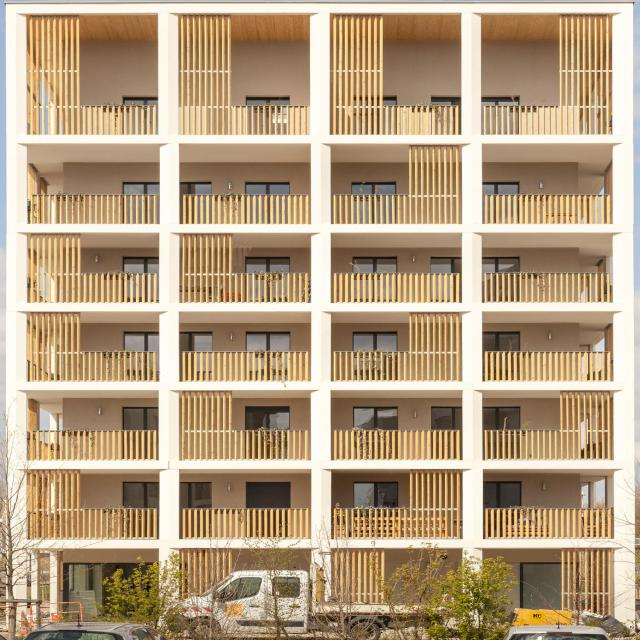door: (60, 563, 151, 620), (522, 561, 561, 608)
railing: (173, 14, 307, 135), (327, 11, 455, 135), (24, 13, 154, 133), (482, 14, 608, 133), (330, 143, 458, 223), (24, 468, 158, 539), (330, 466, 460, 538), (177, 388, 308, 459), (24, 233, 157, 302), (482, 389, 607, 462), (178, 232, 307, 302), (26, 312, 155, 380), (331, 312, 459, 380), (176, 505, 307, 539), (25, 430, 158, 462), (329, 427, 460, 459), (178, 350, 308, 382), (482, 506, 612, 538), (329, 271, 457, 303), (481, 272, 608, 304), (29, 192, 158, 222), (482, 194, 612, 223), (182, 194, 307, 224), (559, 547, 609, 614), (328, 548, 385, 601), (179, 547, 222, 597)
window: (350, 480, 395, 508), (352, 405, 396, 430), (246, 479, 290, 504), (119, 480, 157, 508), (245, 407, 288, 429), (481, 480, 518, 505), (173, 329, 211, 351), (349, 331, 395, 349), (350, 255, 396, 273), (122, 406, 157, 429), (244, 331, 288, 349), (178, 483, 213, 505), (484, 404, 516, 428), (242, 255, 288, 271), (125, 331, 159, 352), (429, 407, 459, 429), (476, 256, 517, 272), (119, 255, 157, 272), (480, 332, 515, 350), (427, 256, 459, 272), (242, 182, 286, 193), (351, 182, 393, 193), (121, 180, 156, 192), (477, 95, 515, 105), (480, 182, 512, 193), (243, 96, 286, 104), (177, 182, 208, 192), (120, 96, 155, 104), (429, 96, 451, 105), (380, 96, 394, 105)
